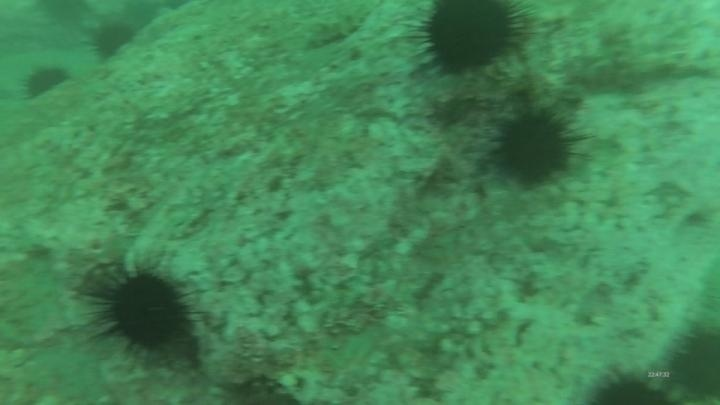echinus: (88, 261, 199, 360), (411, 1, 533, 78), (488, 104, 582, 190), (662, 320, 719, 403), (582, 364, 676, 404), (211, 366, 304, 405), (20, 62, 72, 102), (88, 20, 137, 62), (34, 1, 94, 28)
holothurian: (299, 4, 374, 51)
